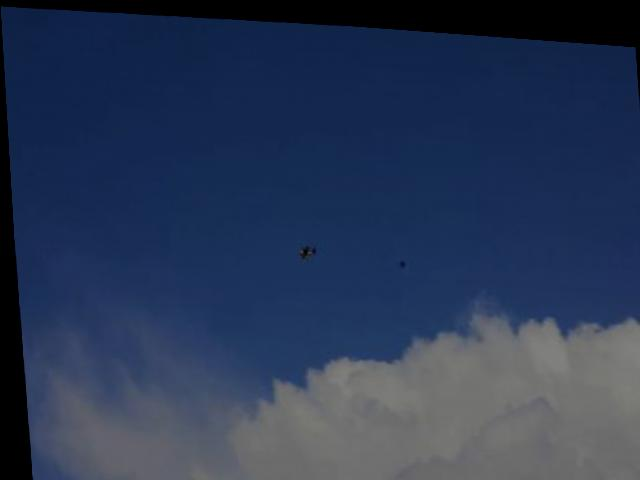uav: (294, 235, 316, 258)
